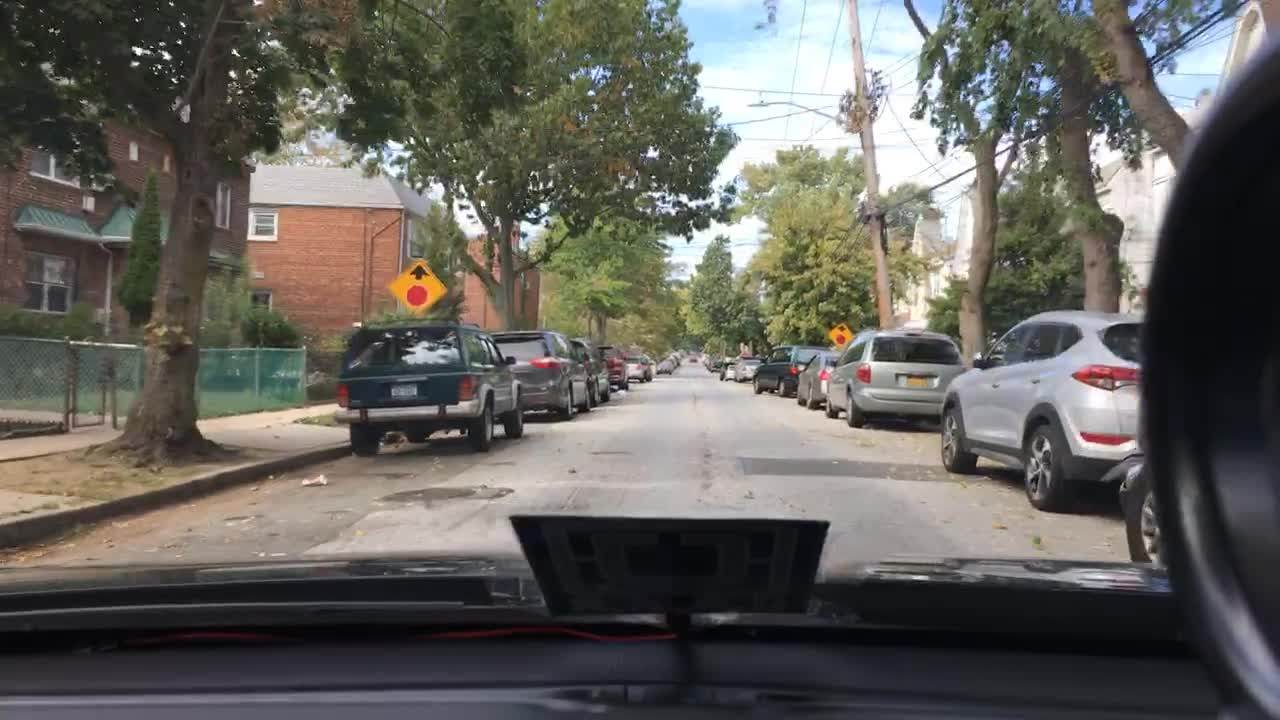car: (939, 308, 1150, 512), (333, 317, 525, 455), (824, 331, 968, 427), (489, 328, 595, 417), (1119, 461, 1168, 564), (753, 343, 826, 397), (570, 334, 616, 401), (797, 351, 843, 406), (592, 342, 632, 391), (624, 352, 659, 381), (733, 355, 763, 383), (716, 358, 734, 378), (649, 360, 671, 372), (662, 355, 678, 371), (673, 346, 690, 360), (702, 354, 716, 368), (686, 352, 701, 362)
traffic sign: (384, 260, 446, 313), (827, 322, 853, 348)
